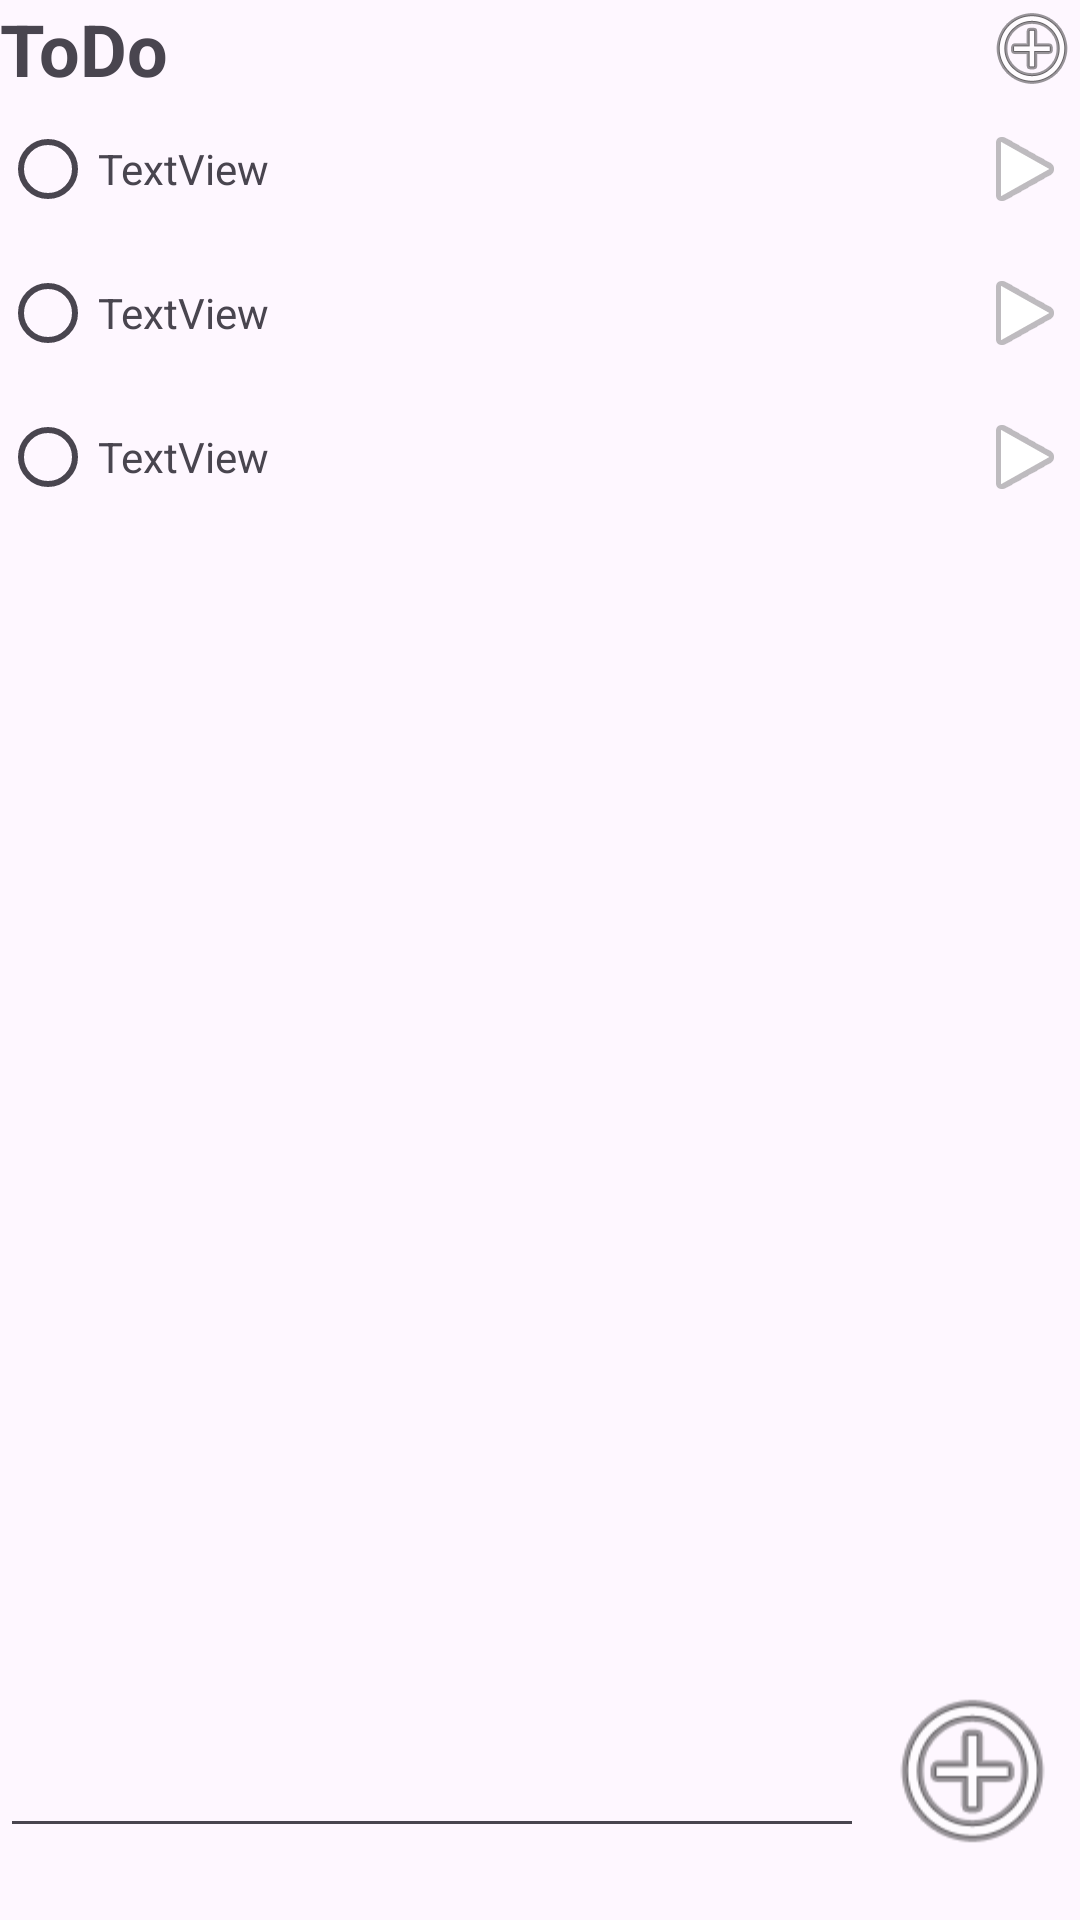

Point at icon controls on the screen. Image size 1080w x 1920h, points as point (x, y).
play: point (1025, 169), point (1025, 313), point (1025, 457)
